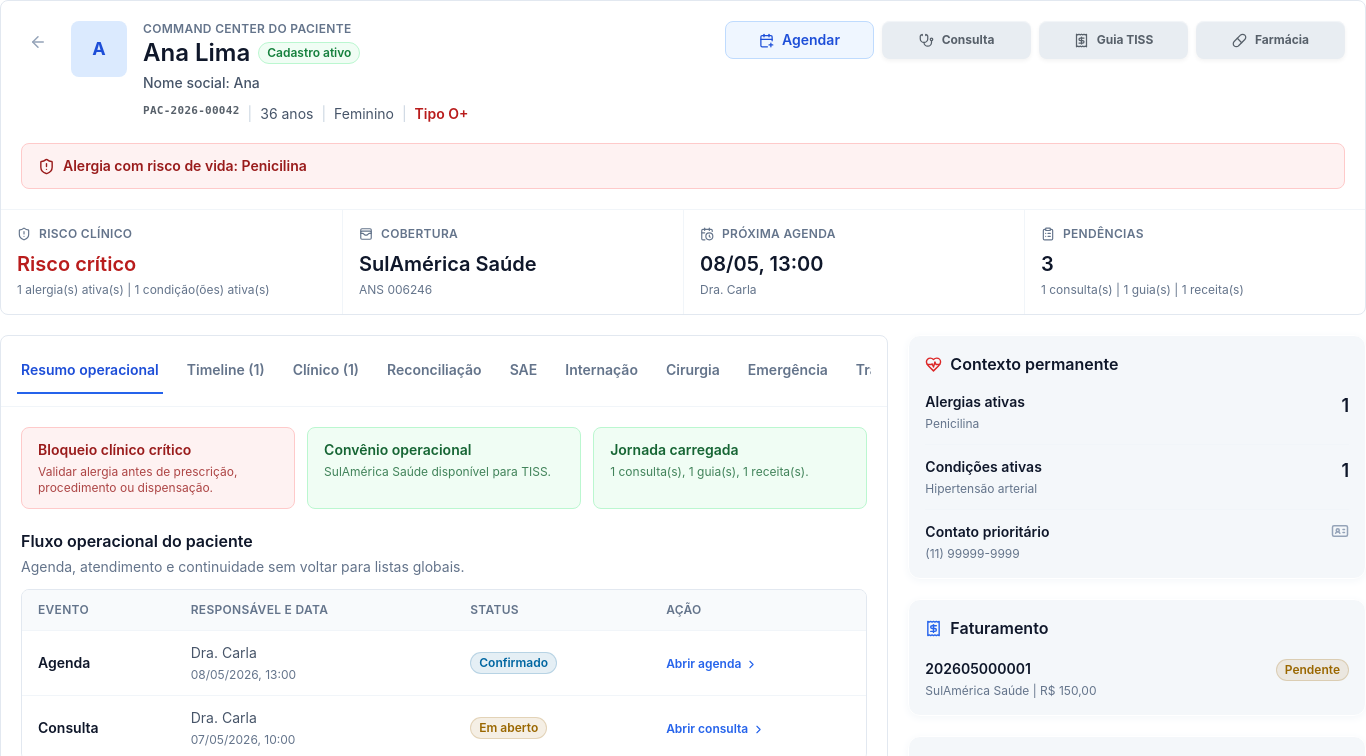
Test case: PatientDetailPage › surfaces governed problems (CID-10) and immunizations on the clinical tab, not just legacy history
This screenshot has width=1366, height=756.
Expected: the heading "Ana Lima" is shown, left=143, top=37, right=250, bottom=69
Click the button "Clínico (1)": [326, 371] box left=289, top=348, right=363, bottom=394
(page scrolled)
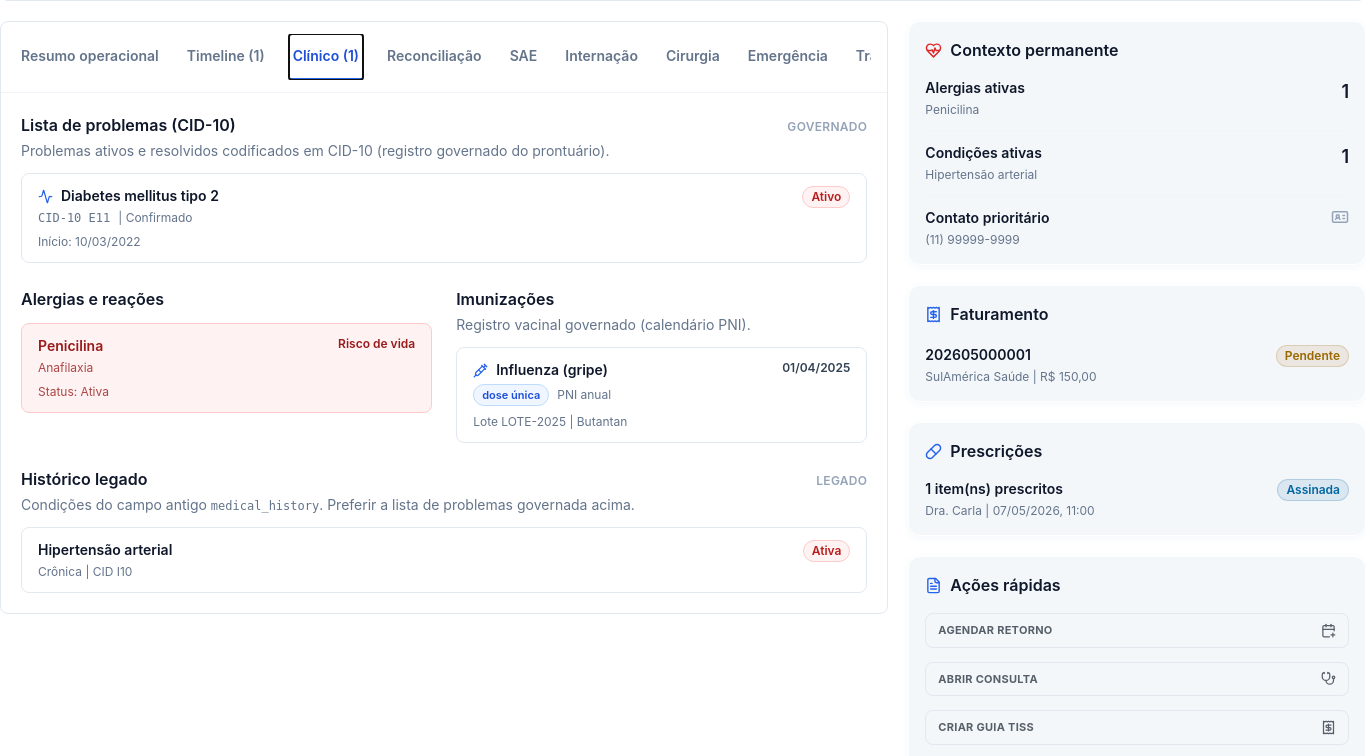
Expected: the text "Diabetes mellitus tipo 2" is shown, left=61, top=186, right=219, bottom=206
Expected: the text "CID-10 E11" is shown, left=38, top=210, right=110, bottom=226
Expected: the heading "Lista de problemas (CID-10)" is shown, left=21, top=113, right=236, bottom=137
